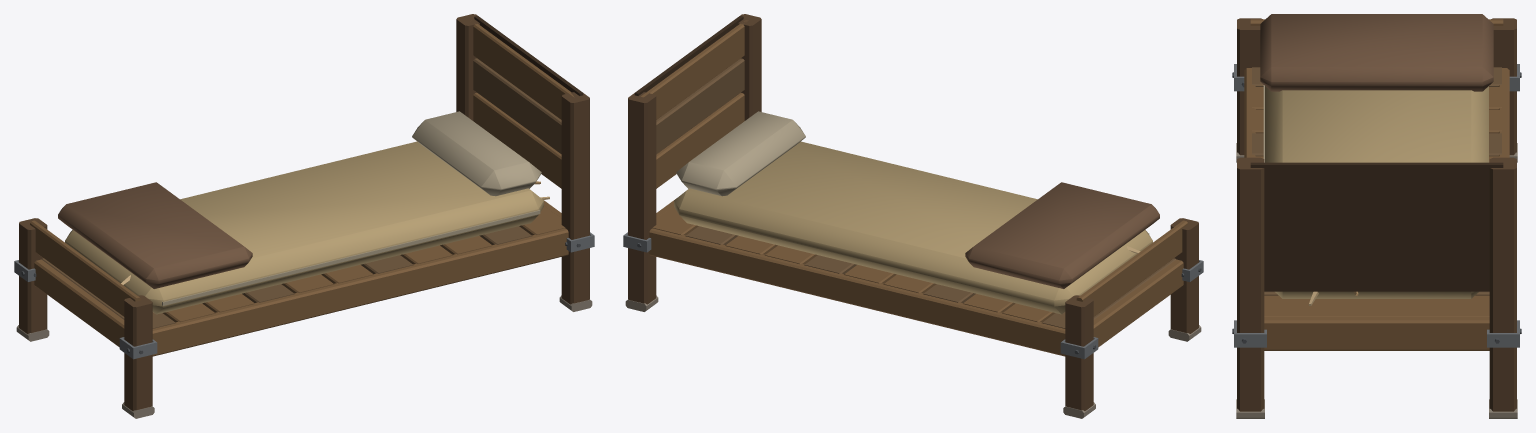
The model's file is SM_LPD_Furn_BunkSingle_01.fbx.
The picture shows the model from 3 angles, left to right: view 1: azimuth 30°, elevation 25°; view 2: azimuth 150°, elevation 25°; view 3: azimuth 270°, elevation 25°; orthographic projection. The views are drawn at different scales.
Parts seen in each view (by area): view 1: SM_LPD_Furn_BunkSingle_01; view 2: SM_LPD_Furn_BunkSingle_01; view 3: SM_LPD_Furn_BunkSingle_01.
Boxes of the visible parts, bbox=[...] form: SM_LPD_Furn_BunkSingle_01: bbox=[14, 14, 594, 418]; SM_LPD_Furn_BunkSingle_01: bbox=[623, 14, 1203, 418]; SM_LPD_Furn_BunkSingle_01: bbox=[1232, 14, 1521, 418].
Bounding box in the file's own units: 2 × 0.87 × 0.9.
